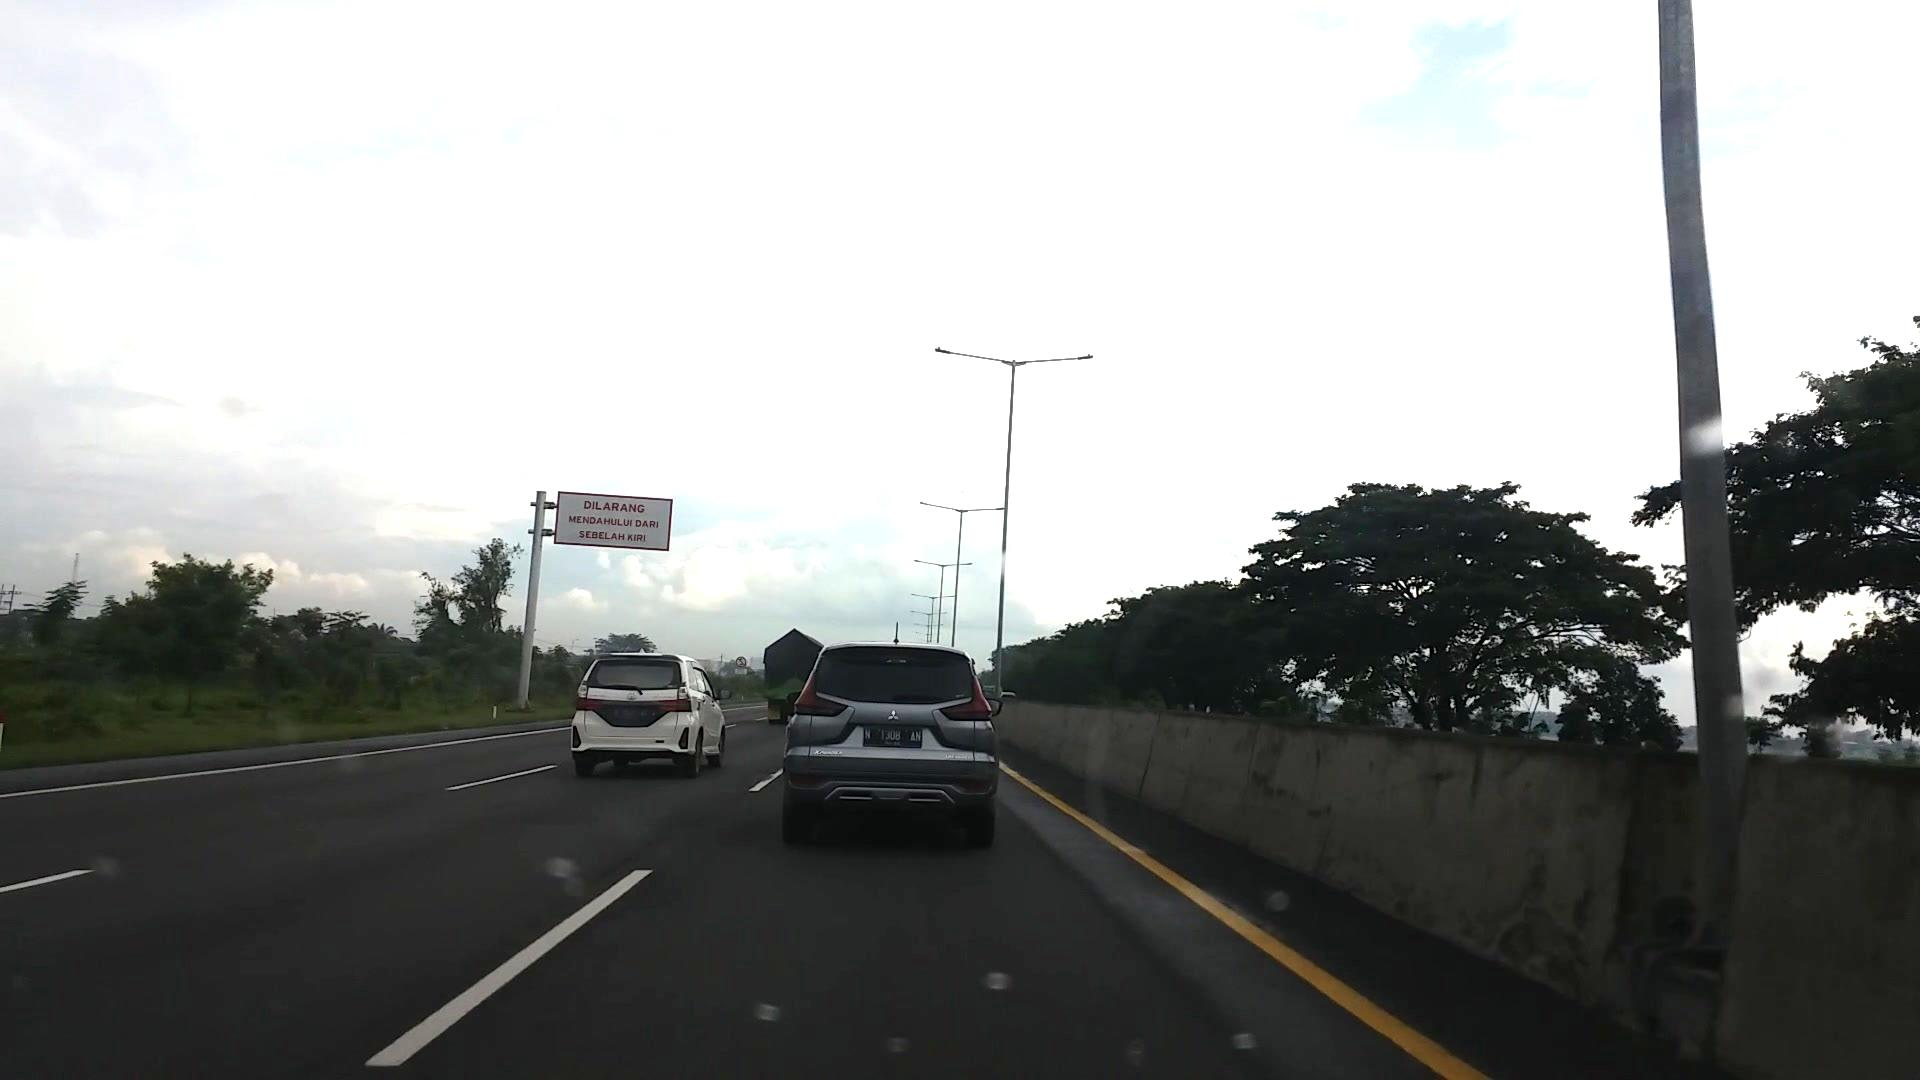plate_positive: (862, 727, 923, 746)
